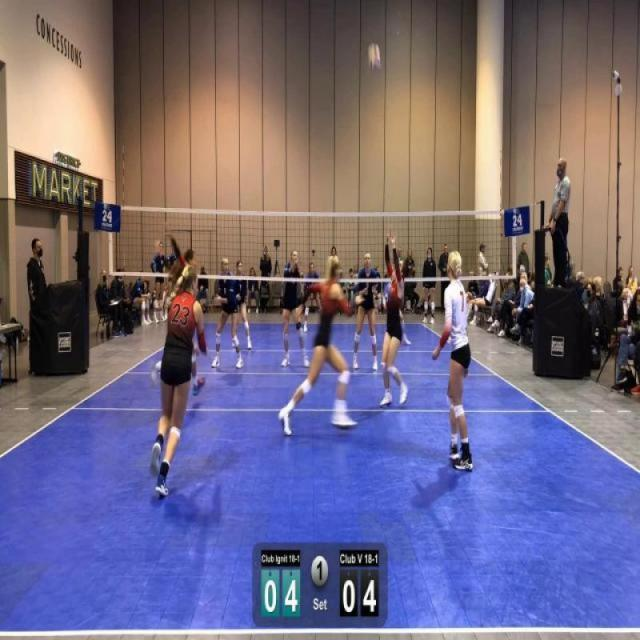volleyball: (366, 41, 382, 74)
